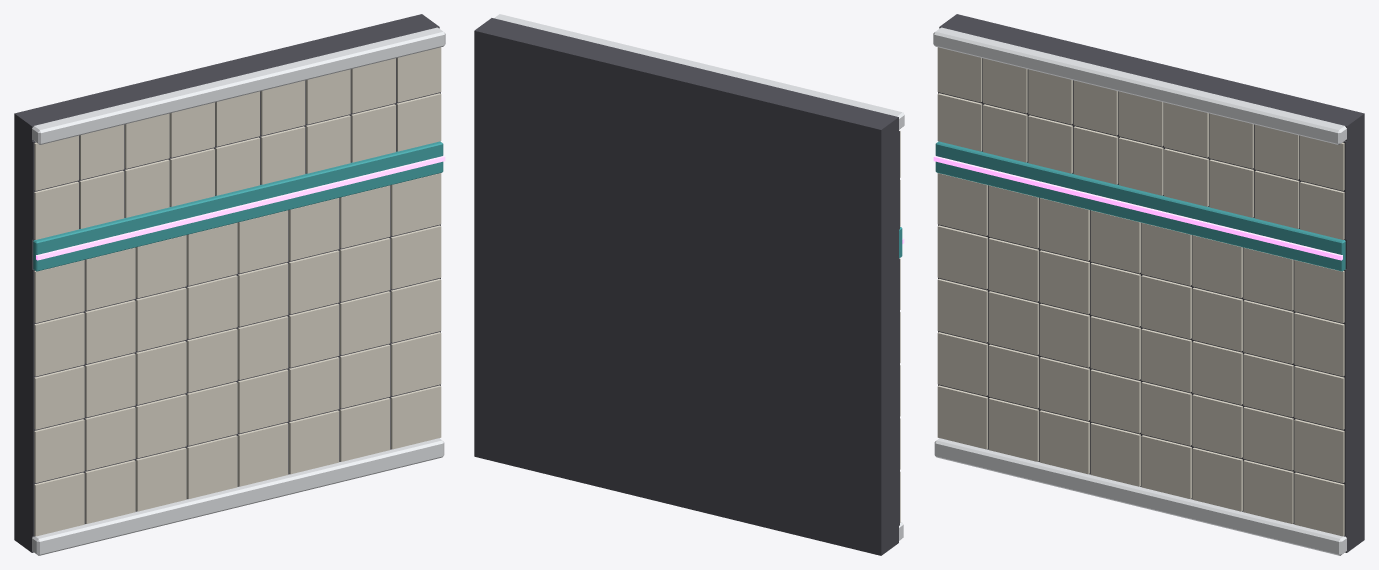
The model's file is wall_mp_tile2.glb.
3 views of the same model, side by side, from view 1: azimuth 30°, elevation 25°; view 2: azimuth 150°, elevation 25°; view 3: azimuth 330°, elevation 25° (orthographic).
Parts seen in each view (by area): view 1: wall_mp_tile2; view 2: wall_mp_tile2; view 3: wall_mp_tile2.
Boxes of the visible parts, x1,y1,x2,y2 form: wall_mp_tile2: (14,14,445,555); wall_mp_tile2: (474,14,904,555); wall_mp_tile2: (933,14,1364,555).
Size of the model in its own units: 4 by 4 by 0.42.
